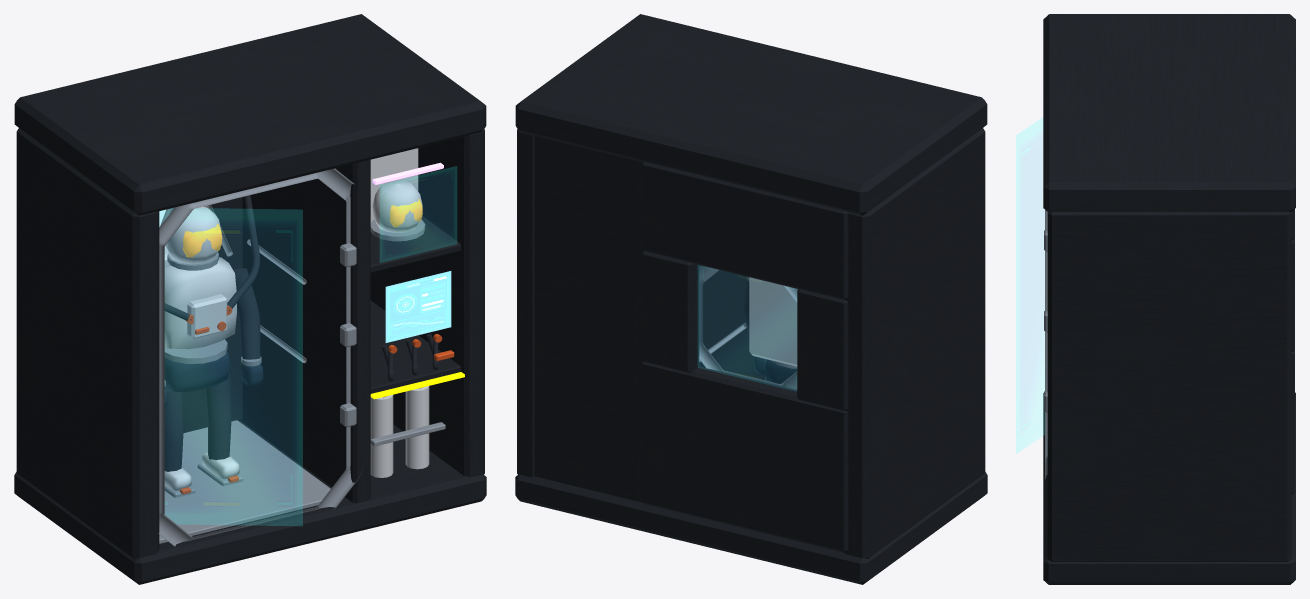
File: eva_chamber_winner_01_dual_zone_decompression_gantry.glb
3 renders of one model, left to right at view 1: azimuth 30°, elevation 25°; view 2: azimuth 150°, elevation 25°; view 3: azimuth 270°, elevation 25°, orthographic.
Parts seen in each view (by area): view 1: EVA02_SplitBayGunmetalHull, EVA02_TranslucentAirlockDoorAndHelmetHood, EVA02_MachinedGantryGrateAndDogTeeth, EVA02_WhiteSuitHelmetAndTanks, EVA02_CharcoalSleevesAndUmbilicalHoses, EVA02_RightTowerOLEDConsole, EVA02_OrbitalNavySuitJoints, EVA02_GoldIridiumHelmetVisors, EVA02_SignalOrangeValvesAndBlowdownLever, EVA02_AmberBootDeckAndTowerLED; view 2: EVA02_SplitBayGunmetalHull, EVA02_TranslucentAirlockDoorAndHelmetHood, EVA02_WhiteSuitHelmetAndTanks, EVA02_MachinedGantryGrateAndDogTeeth, EVA02_OrbitalNavySuitJoints; view 3: EVA02_SplitBayGunmetalHull, EVA02_TranslucentAirlockDoorAndHelmetHood, EVA02_MachinedGantryGrateAndDogTeeth.
Part boxes in pixels (bbox=[...]): EVA02_SplitBayGunmetalHull: bbox=[14, 14, 486, 584]; EVA02_TranslucentAirlockDoorAndHelmetHood: bbox=[159, 166, 456, 525]; EVA02_MachinedGantryGrateAndDogTeeth: bbox=[158, 168, 445, 546]; EVA02_WhiteSuitHelmetAndTanks: bbox=[164, 148, 429, 490]; EVA02_CharcoalSleevesAndUmbilicalHoses: bbox=[164, 195, 438, 471]; EVA02_RightTowerOLEDConsole: bbox=[385, 271, 451, 342]; EVA02_OrbitalNavySuitJoints: bbox=[164, 351, 263, 407]; EVA02_GoldIridiumHelmetVisors: bbox=[183, 199, 422, 257]; EVA02_SignalOrangeValvesAndBlowdownLever: bbox=[180, 305, 454, 494]; EVA02_AmberBootDeckAndTowerLED: bbox=[370, 372, 464, 399]; EVA02_SplitBayGunmetalHull: bbox=[515, 14, 987, 584]; EVA02_TranslucentAirlockDoorAndHelmetHood: bbox=[698, 265, 797, 390]; EVA02_WhiteSuitHelmetAndTanks: bbox=[749, 277, 797, 366]; EVA02_MachinedGantryGrateAndDogTeeth: bbox=[698, 265, 798, 389]; EVA02_OrbitalNavySuitJoints: bbox=[754, 356, 797, 383]; EVA02_SplitBayGunmetalHull: bbox=[1043, 14, 1295, 584]; EVA02_TranslucentAirlockDoorAndHelmetHood: bbox=[1016, 118, 1044, 453]; EVA02_MachinedGantryGrateAndDogTeeth: bbox=[1044, 210, 1047, 479].
Bounding box in the file's own units: 2.35 × 2.55 × 1.61.
12 materials, 12 textured.
